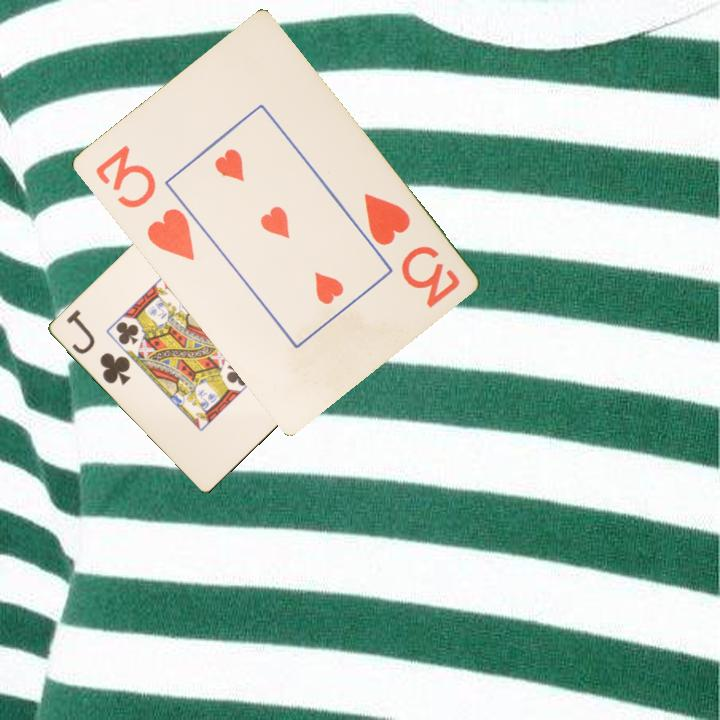3h: (91, 141, 197, 264), (359, 189, 463, 311)
Jc: (63, 306, 134, 388)
